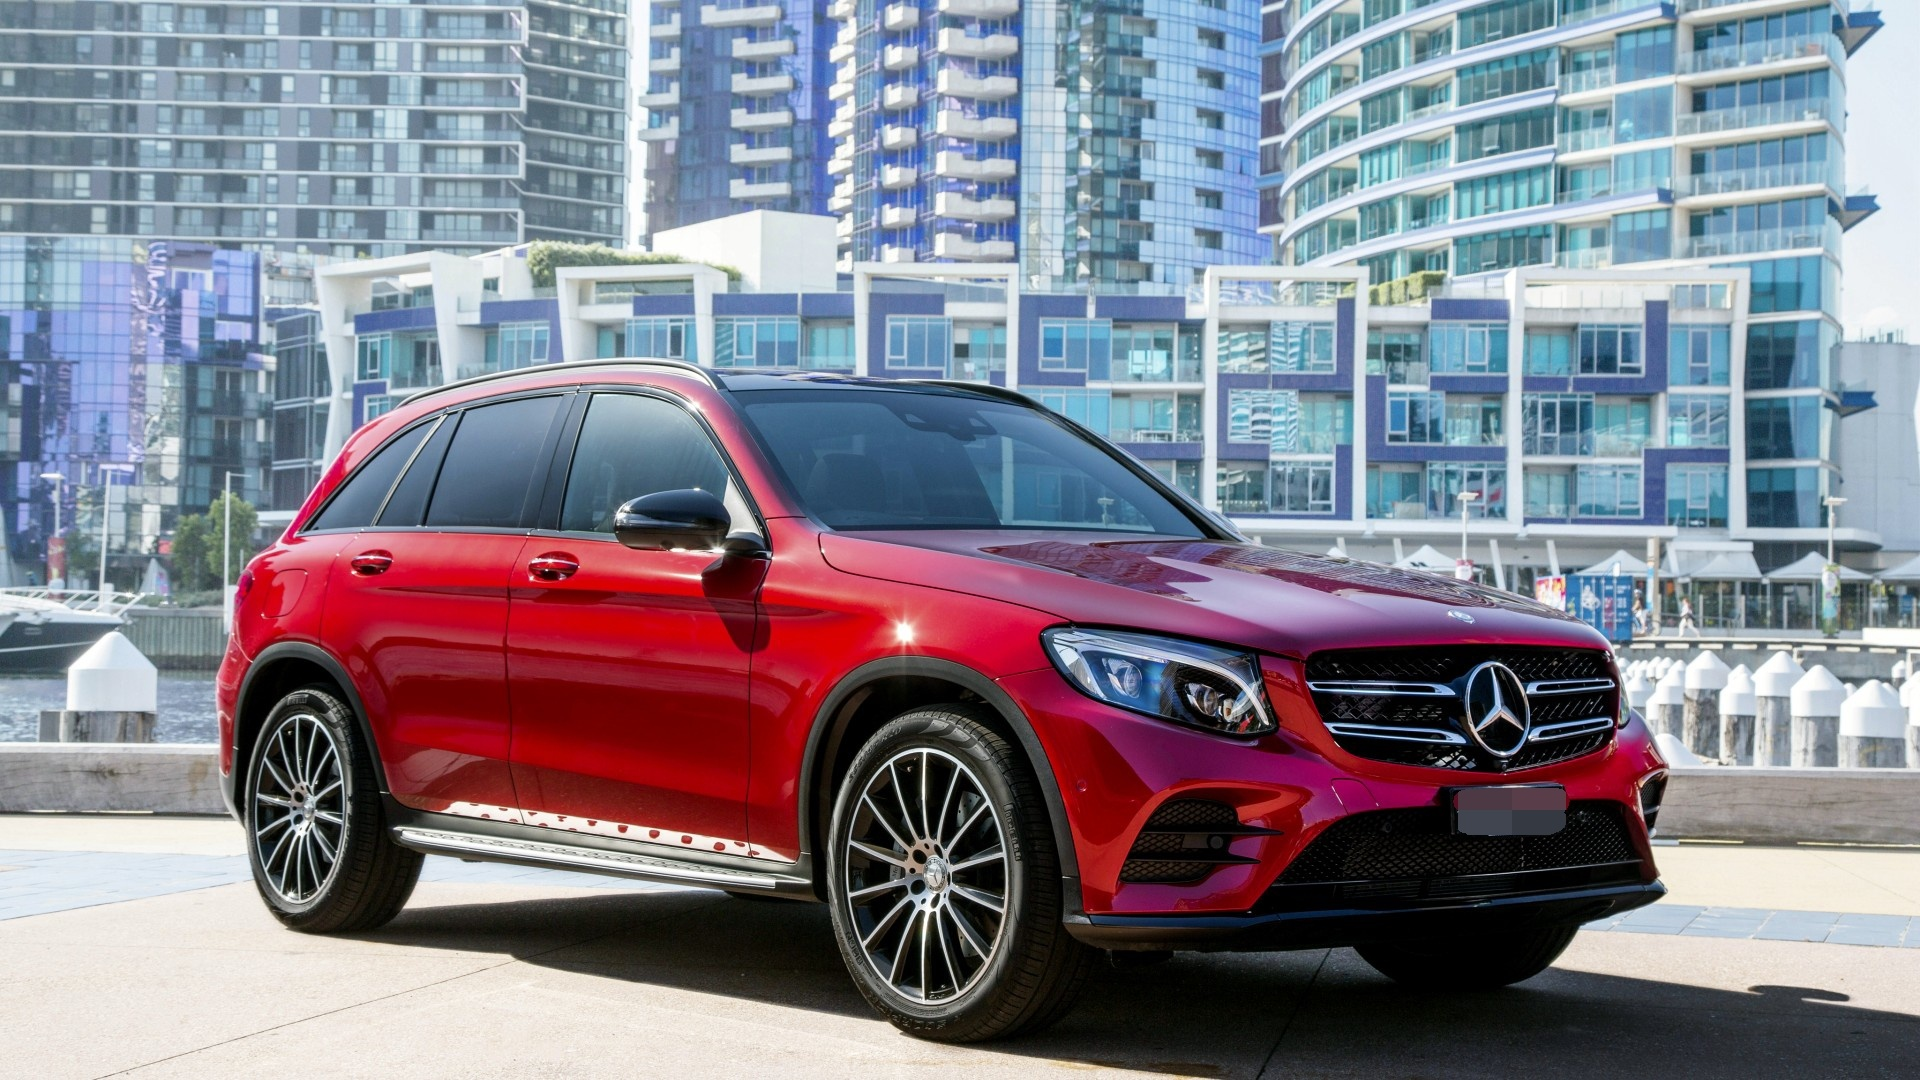SUV: (186, 338, 1668, 1054)
